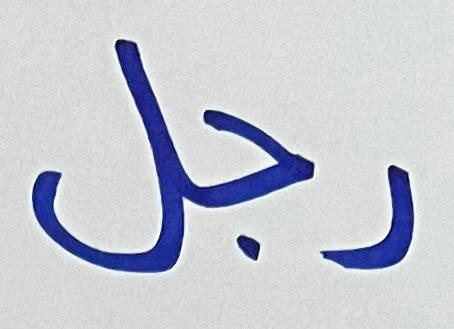jeem: (198, 103, 316, 265)
lam: (34, 20, 195, 276), (321, 158, 420, 276)
